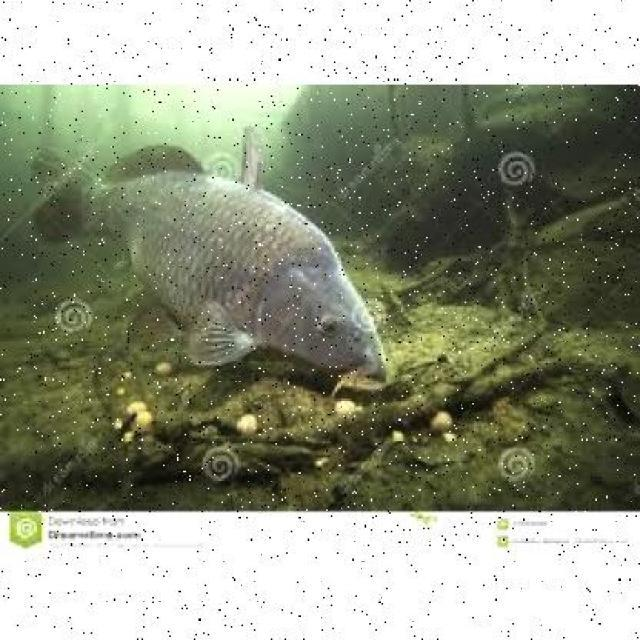ikan-mas: (32, 126, 383, 372)
